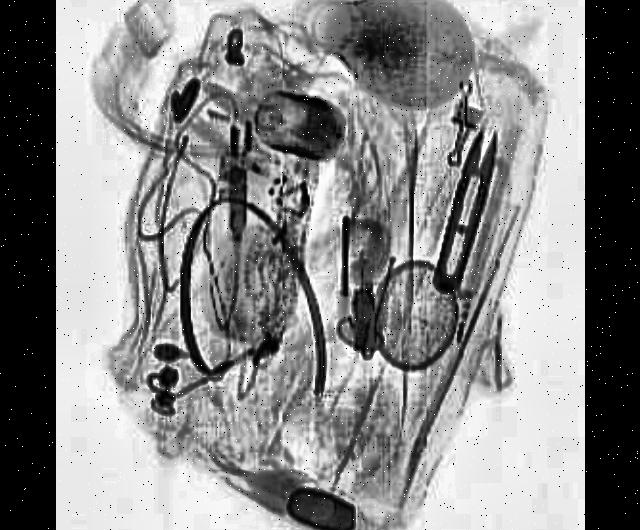Scissors: (424, 121, 502, 297)
